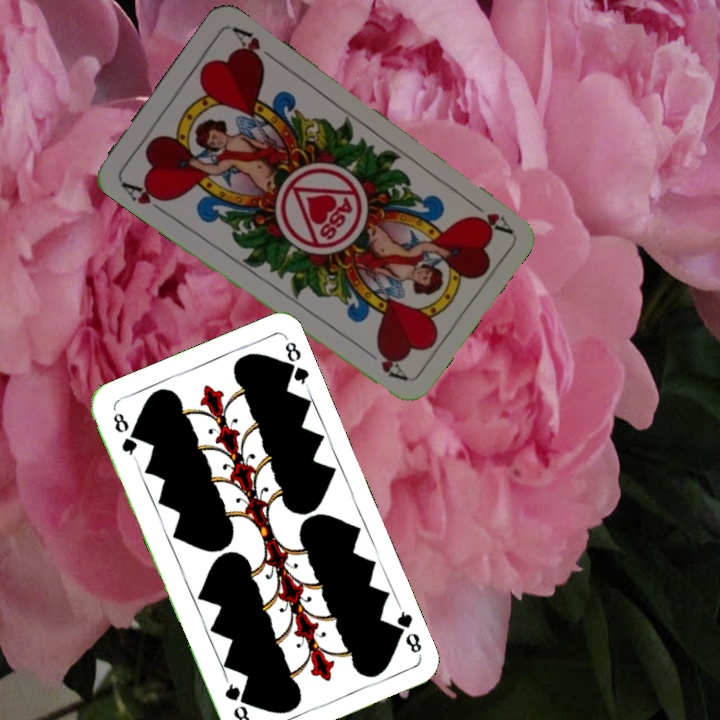G8: (387, 601, 425, 658), (109, 408, 140, 462)
HA: (117, 177, 171, 217), (462, 195, 514, 236)
